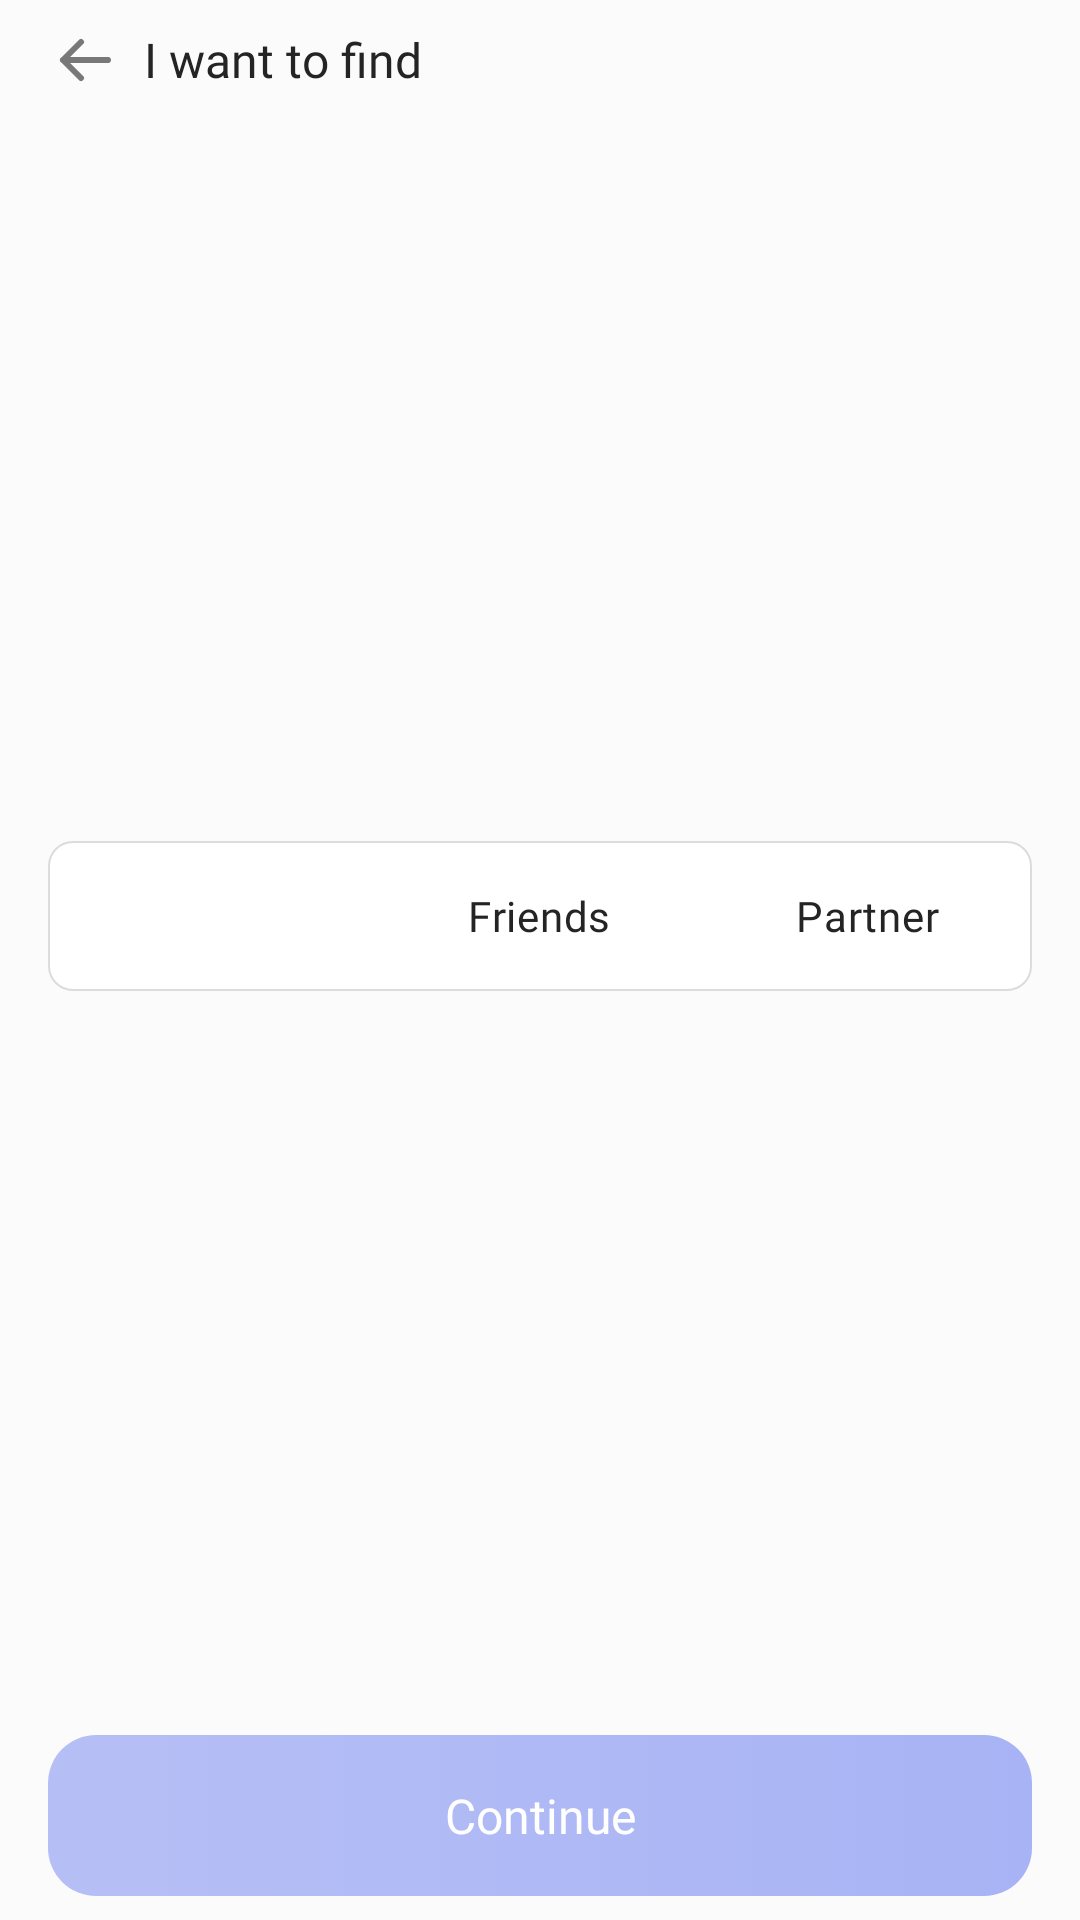

Icon click points for this 1080x1920 phone screenshot, format (x=x, y=y):
Back: (x=85, y=60)
